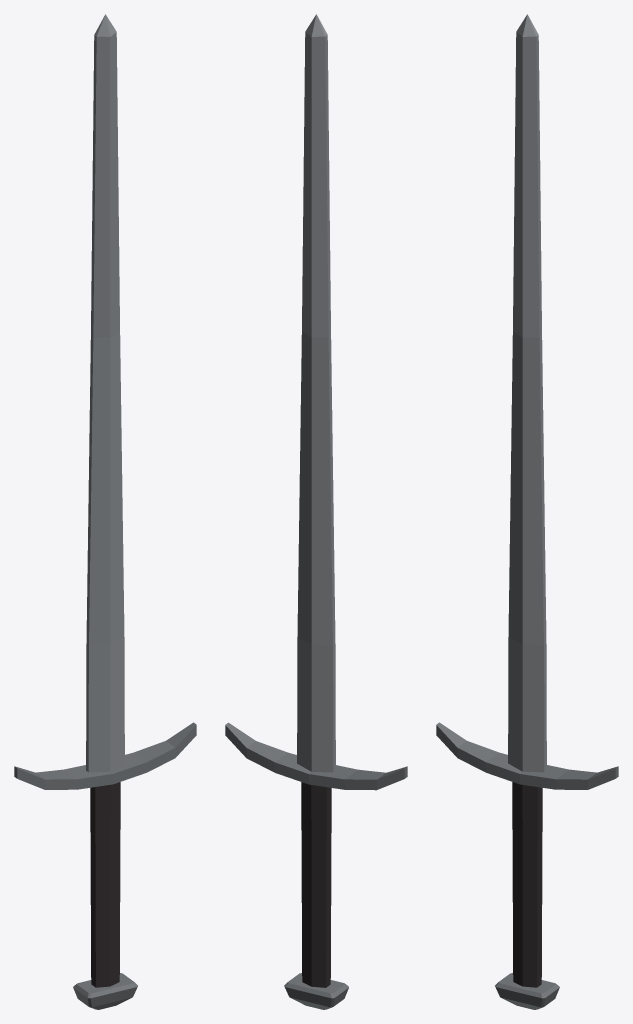
Rendered from LongSword.001.fbx.
The picture shows the model from 3 angles, left to right: view 1: azimuth 30°, elevation 25°; view 2: azimuth 150°, elevation 25°; view 3: azimuth 330°, elevation 25°; orthographic projection.
Parts seen in each view (by area): view 1: LongSword.001; view 2: LongSword.001; view 3: LongSword.001.
Part boxes in pixels (x1,y1,x2,y2): LongSword.001: (14,14,196,1009); LongSword.001: (225,14,407,1009); LongSword.001: (436,14,618,1009).
Size of the model in its own units: 23.55 by 125 by 3.82.
